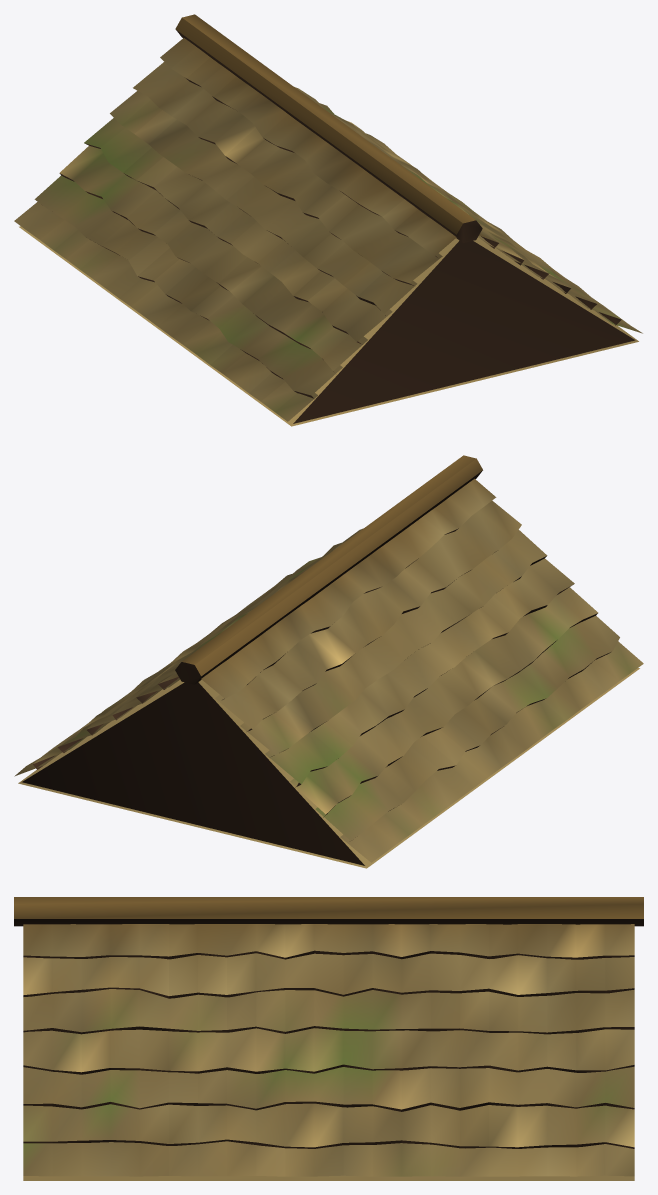
Rendered from roof_2.glb.
The picture shows the model from 3 angles, top to bottom: view 1: azimuth 30°, elevation 25°; view 2: azimuth 150°, elevation 25°; view 3: azimuth 270°, elevation 25°; orthographic projection. The views are drawn at different scales.
Visible parts, largest first — view 1: roof_2; view 2: roof_2; view 3: roof_2.
Boxes of the visible parts, box(x1,y1,x2,y2) form: roof_2: box(14, 14, 642, 426); roof_2: box(14, 455, 643, 868); roof_2: box(14, 897, 643, 1180).
Size of the model in its own units: 6.88 by 3.04 by 9.38.
